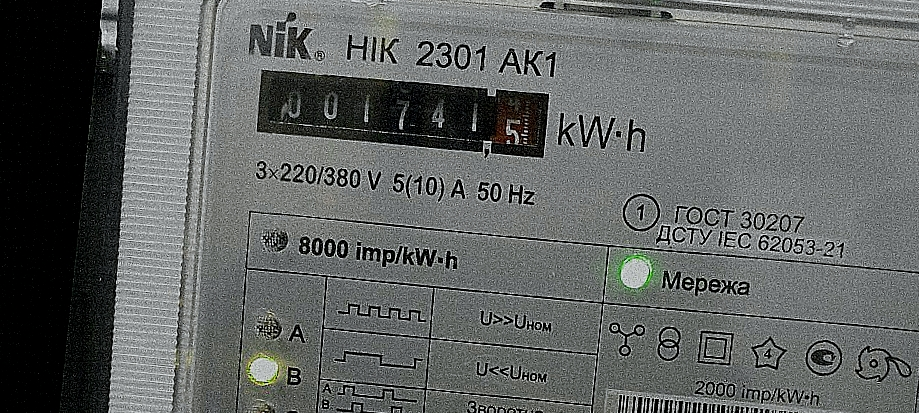0: (319, 87, 342, 123), (283, 86, 305, 121)
1: (355, 89, 376, 126), (464, 99, 483, 135)
4: (427, 94, 450, 131), (505, 94, 523, 114)
5: (501, 114, 523, 147)
7: (390, 95, 411, 132)
screen: (248, 57, 558, 169)
